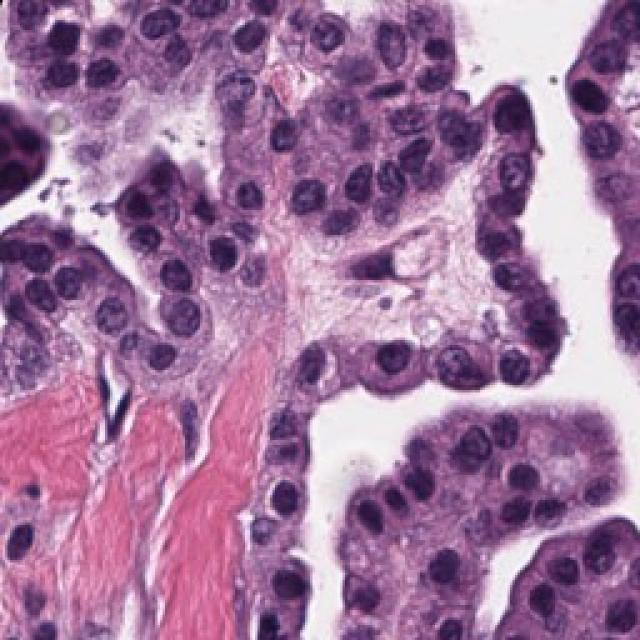abnormal: (355, 328, 436, 412), (353, 8, 431, 79), (45, 237, 120, 310), (243, 470, 320, 539), (79, 281, 151, 351), (433, 327, 497, 405), (445, 408, 507, 486), (572, 522, 640, 591), (176, 224, 251, 284), (302, 0, 358, 76), (157, 283, 218, 351), (581, 112, 640, 179), (278, 158, 329, 234), (575, 33, 640, 91), (426, 543, 486, 604), (338, 152, 390, 221), (210, 72, 274, 128), (135, 2, 201, 56), (493, 143, 548, 206), (228, 6, 274, 69)
